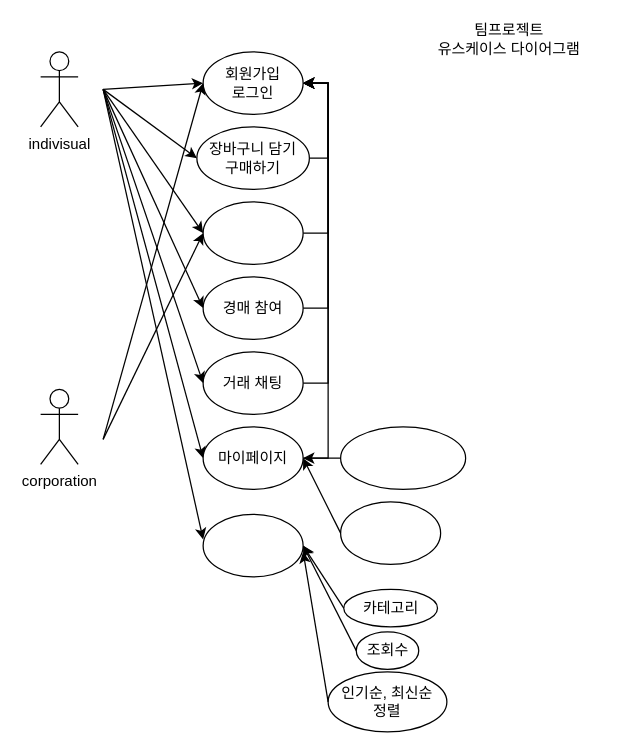
Image size: 618x754. Some labels were removed from this diagram. The box of each missing label's shape, as (x1, y1, x2, y2) in pixels:
개인정보 확인, 수정, 삭제: (339, 426, 466, 489)
거래 내역: (339, 501, 441, 564)
상품 등록 및 삭제: (202, 201, 303, 264)
상품 조회 및 검색: (202, 513, 303, 577)
